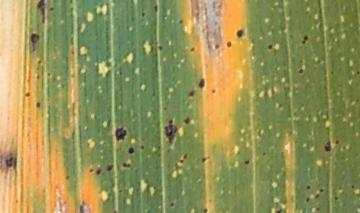tarspot: (162, 118, 178, 146), (35, 1, 46, 25), (114, 125, 128, 143), (29, 32, 40, 52), (35, 58, 44, 74), (234, 28, 246, 39), (104, 162, 116, 173), (5, 156, 15, 168), (323, 139, 332, 152), (78, 201, 87, 213), (197, 76, 205, 89), (94, 166, 102, 179), (120, 160, 131, 169), (155, 44, 165, 53), (300, 35, 309, 45), (201, 154, 211, 163), (126, 146, 136, 155), (23, 90, 32, 99), (224, 40, 233, 49), (182, 116, 191, 125), (187, 89, 195, 99), (297, 67, 305, 76), (35, 100, 42, 110), (188, 46, 196, 54), (243, 158, 251, 166), (313, 205, 321, 213), (116, 187, 124, 195), (48, 5, 55, 14), (139, 10, 146, 19), (152, 4, 159, 13), (210, 87, 217, 96), (332, 194, 339, 203), (276, 102, 283, 111), (305, 195, 311, 205), (182, 151, 188, 161), (213, 43, 220, 51), (266, 43, 273, 51), (304, 183, 312, 190), (168, 201, 176, 208), (88, 166, 95, 174), (274, 207, 283, 213), (260, 150, 266, 159), (64, 173, 70, 182), (333, 138, 340, 145), (318, 186, 325, 193), (314, 192, 320, 200), (350, 182, 356, 190), (201, 207, 209, 213), (45, 70, 51, 78), (35, 73, 41, 81), (177, 18, 183, 25), (178, 158, 185, 164), (138, 145, 146, 150), (328, 69, 334, 75), (111, 209, 118, 213), (354, 70, 360, 74)
